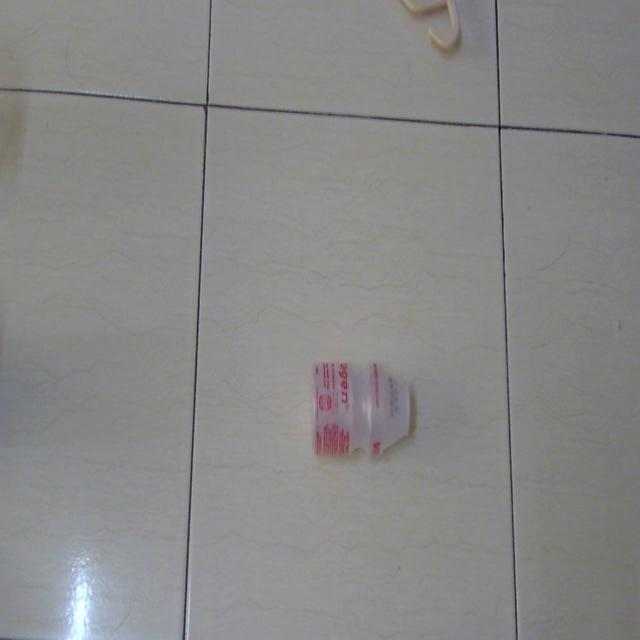plastic_laydown_0rotation: (307, 352, 417, 456)
